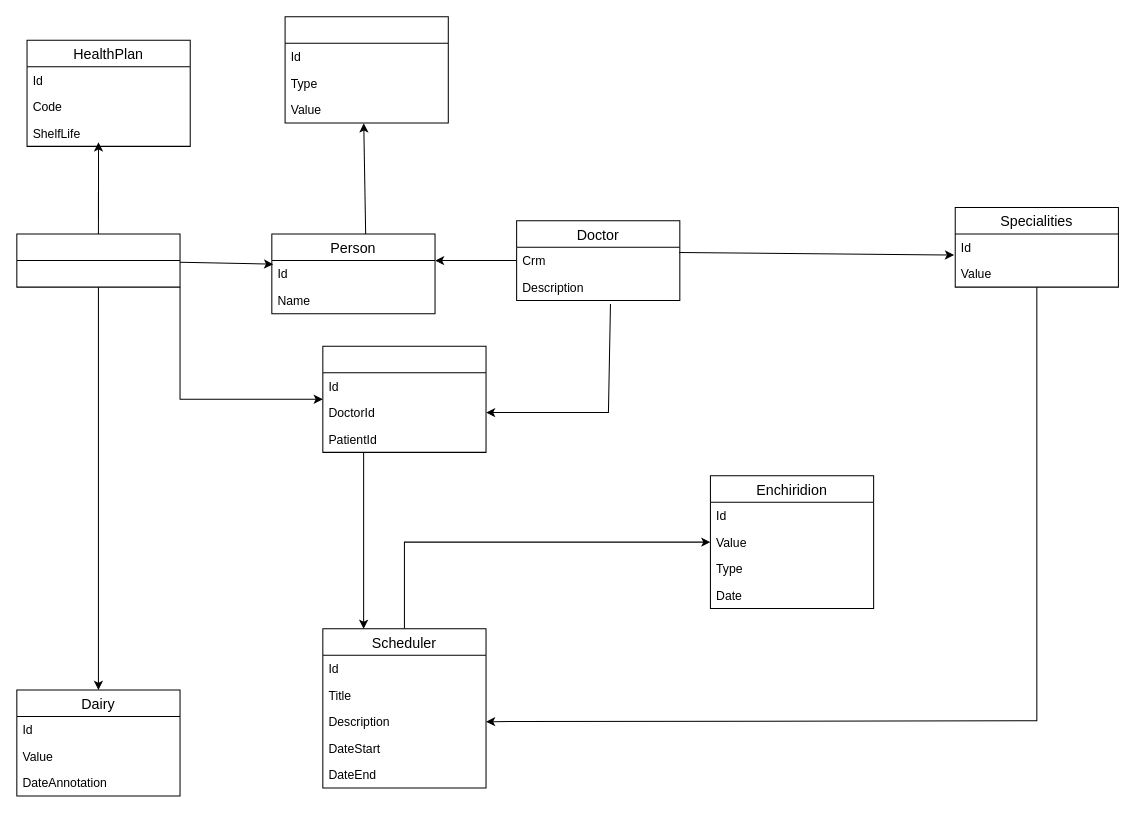
This 1135x813 diagram has some shape labels left out. Here are the shapes that lost their labels. From the top down, the box of each, then its label:
(284, 16, 448, 123): Contacts
(16, 233, 180, 287): Patient
(322, 345, 486, 452): DoctorPatient
